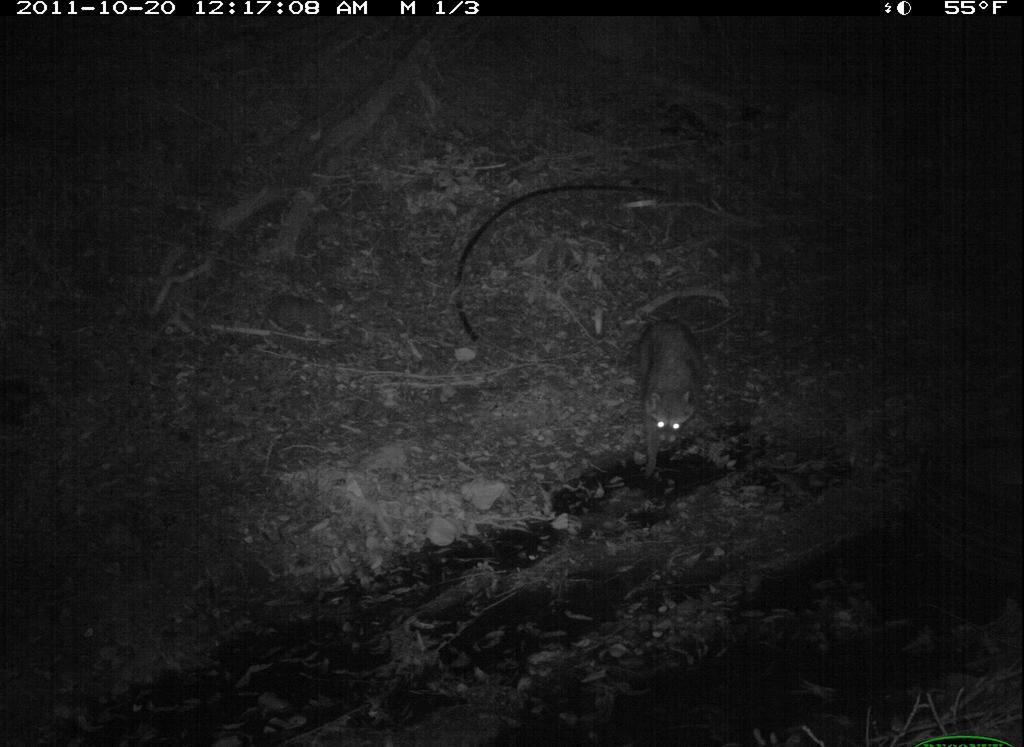raccoon: (611, 301, 717, 496)
